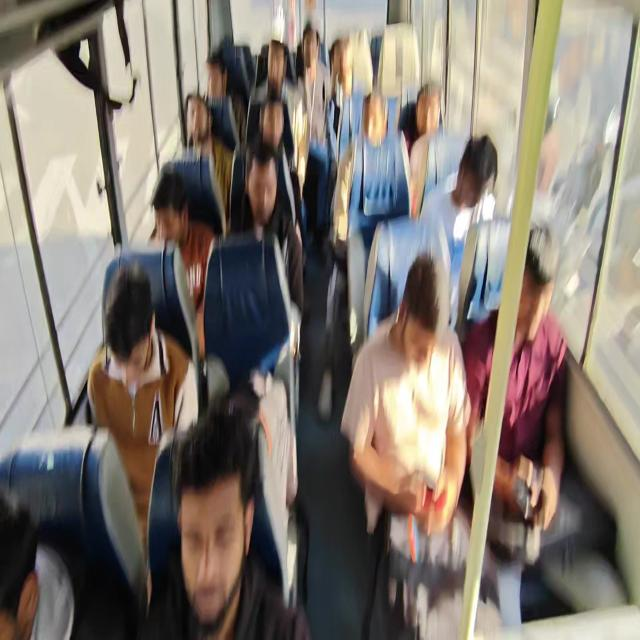person: (95, 267, 192, 540), (509, 228, 617, 402), (179, 462, 278, 640), (399, 278, 458, 404), (0, 499, 48, 639), (457, 129, 533, 217), (238, 129, 282, 228), (150, 164, 196, 250), (185, 92, 232, 176), (414, 87, 463, 150), (359, 82, 394, 150), (305, 20, 325, 111), (331, 25, 354, 91), (265, 41, 290, 101), (206, 46, 230, 98), (256, 91, 286, 130)
